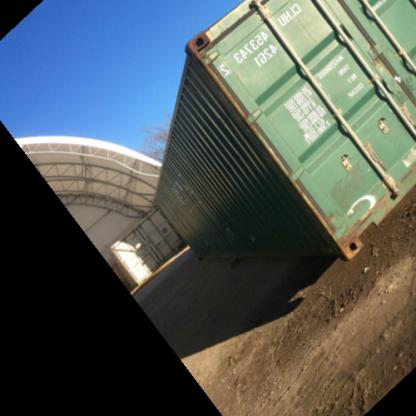Damage: (354, 140, 393, 172), (328, 171, 362, 200), (319, 204, 343, 238)
